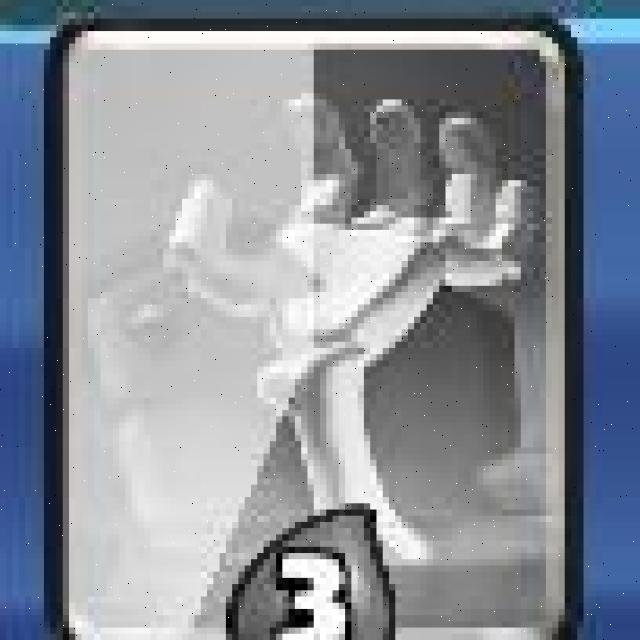Tombstone: (48, 18, 578, 640)
